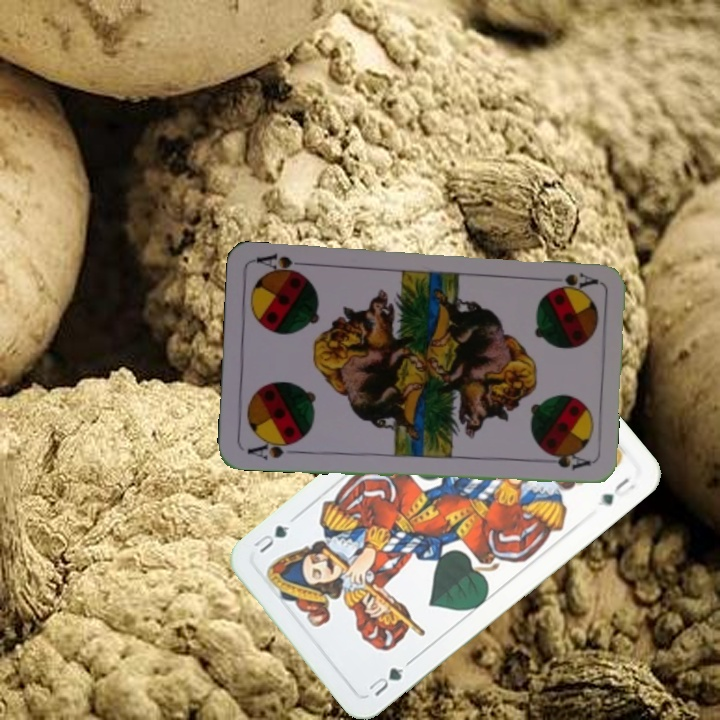GU: (364, 663, 407, 700)
SA: (243, 435, 301, 463), (541, 268, 600, 293)
